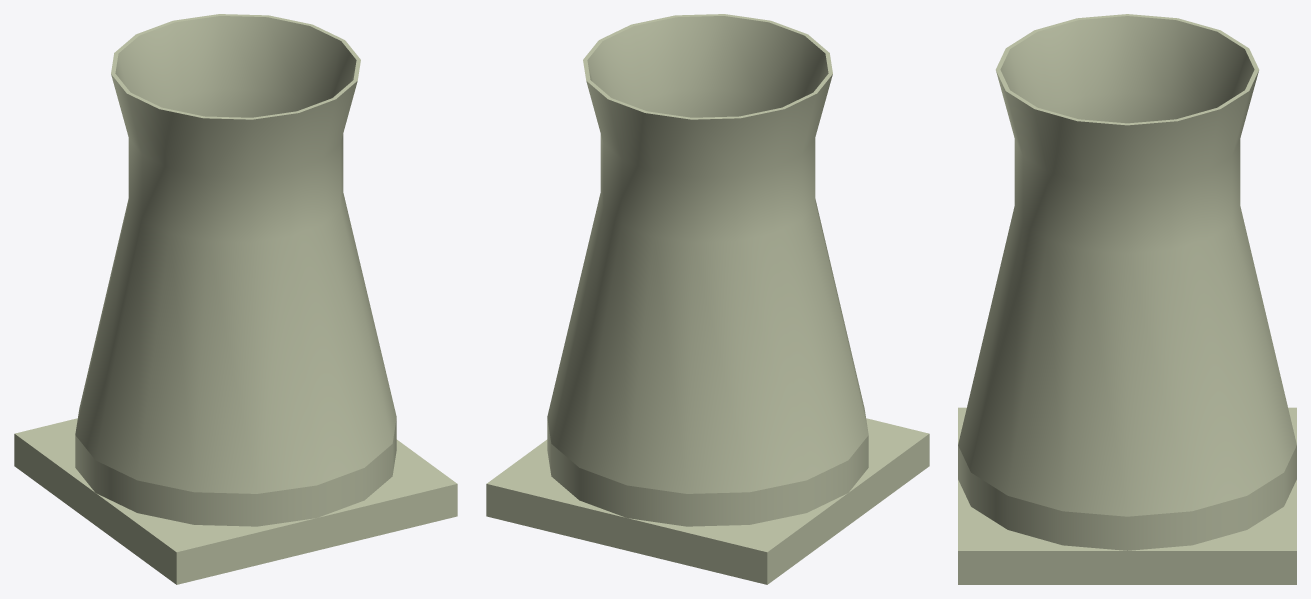
Rendered from tower_large.obj.
The picture shows the model from 3 angles, left to right: view 1: azimuth 30°, elevation 25°; view 2: azimuth 150°, elevation 25°; view 3: azimuth 270°, elevation 25°; orthographic projection. The views are drawn at different scales.
Visible parts, largest first — view 1: Cube_Cube.001; view 2: Cube_Cube.001; view 3: Cube_Cube.001.
Boxes of the visible parts, box(x1,y1,x2,y2) form: Cube_Cube.001: box(14, 14, 457, 584); Cube_Cube.001: box(486, 14, 929, 584); Cube_Cube.001: box(958, 14, 1296, 584).
Size of the model in its own units: 9 by 13 by 9.
